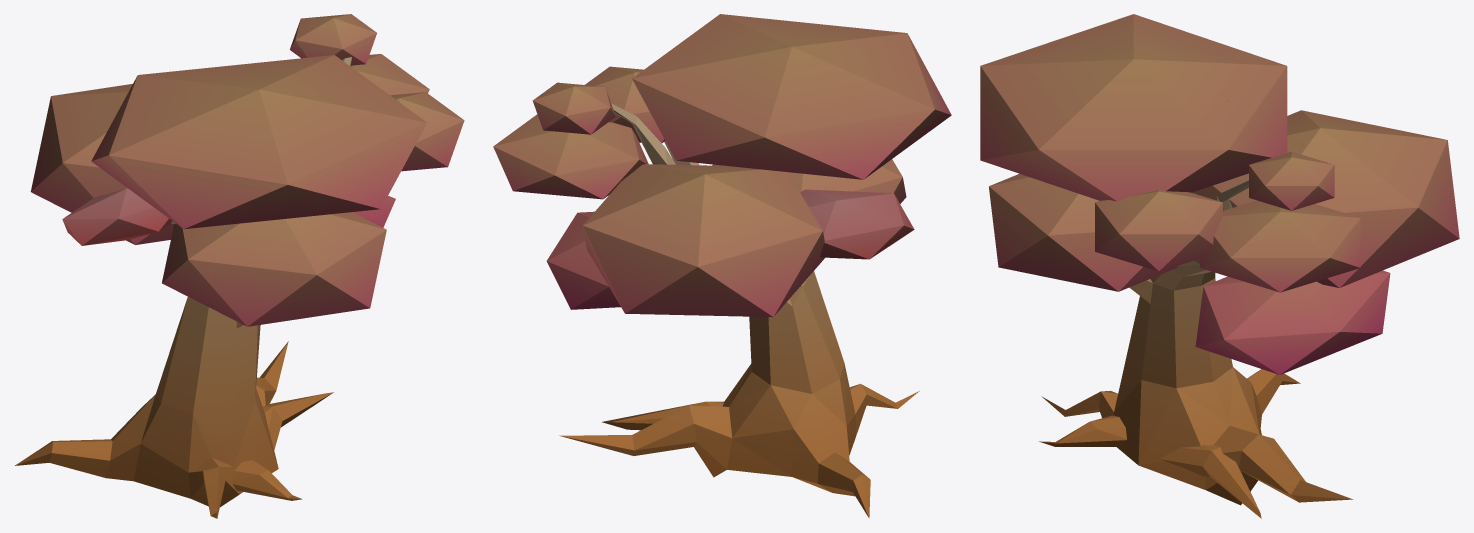
Rendered from tree.glb.
3 renders of one model, left to right at view 1: azimuth 30°, elevation 25°; view 2: azimuth 150°, elevation 25°; view 3: azimuth 270°, elevation 25°, orthographic. The views are drawn at different scales.
Parts seen in each view (by area): view 1: plat; view 2: plat; view 3: plat.
Part boxes in pixels (box(x1,y1,x2,y2)): plat: box(15, 14, 464, 518); plat: box(493, 14, 951, 518); plat: box(980, 14, 1459, 518).
Size of the model in its own units: 3.64 by 3.71 by 3.74.
1 material, 1 textured.
